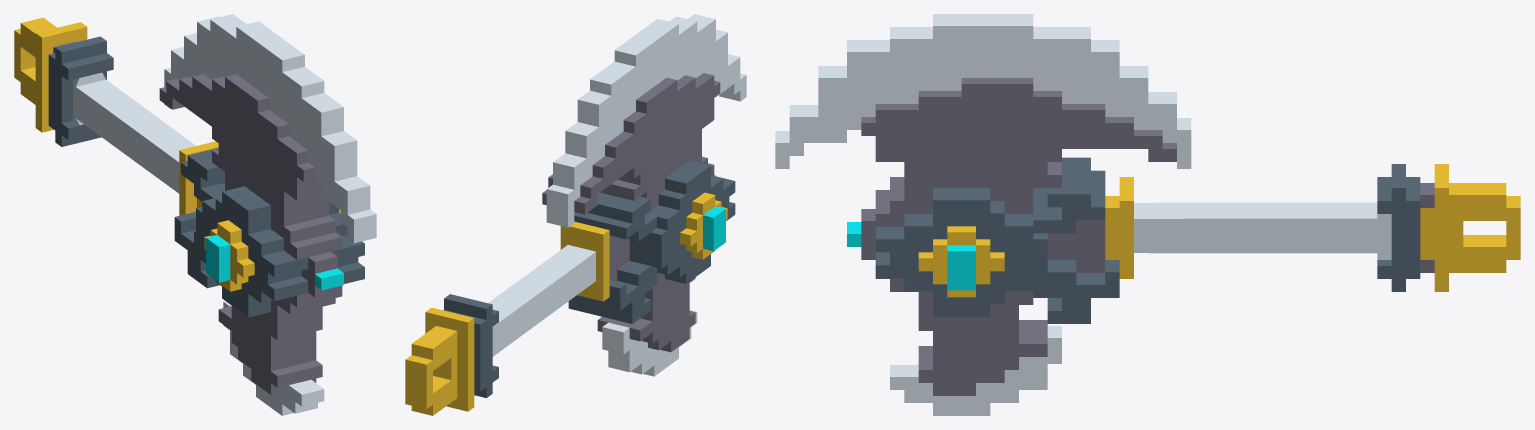
Rendered from leitingzhanfu.FBX.
The picture shows the model from 3 angles, left to right: view 1: azimuth 30°, elevation 25°; view 2: azimuth 150°, elevation 25°; view 3: azimuth 270°, elevation 25°; orthographic projection. The views are drawn at different scales.
Parts seen in each view (by area): view 1: leitingzhanfu; view 2: leitingzhanfu; view 3: leitingzhanfu.
Boxes of the visible parts, <box> form: leitingzhanfu: <box>14,14,376,415</box>; leitingzhanfu: <box>405,14,746,415</box>; leitingzhanfu: <box>775,14,1520,415</box>.
Size of the model in its own units: 0.3071 by 0.7676 by 1.33.
Materials: 1 (1 with a texture image).
